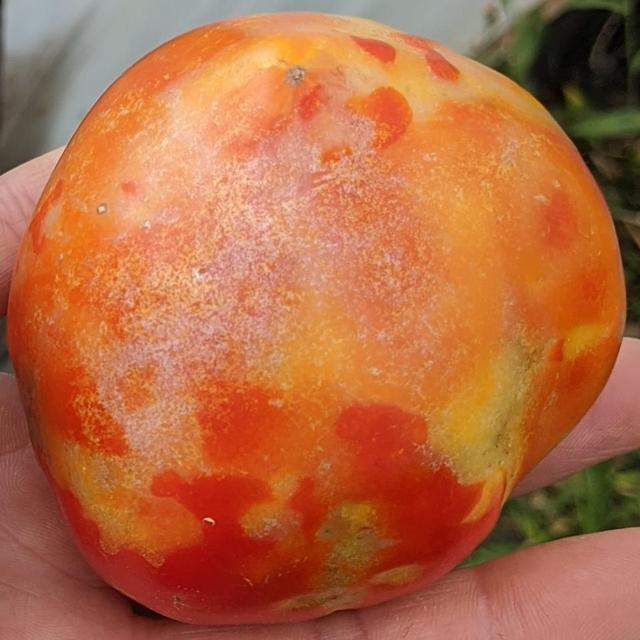Spotted wilt Virus Fruit: (76, 4, 178, 36)
